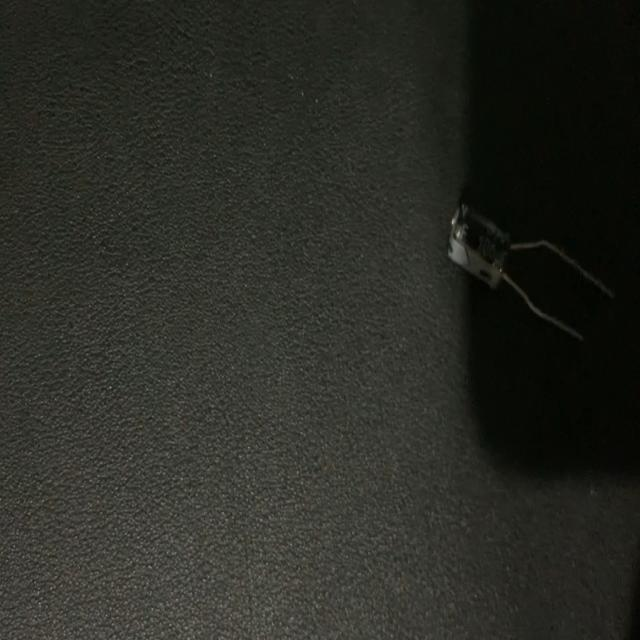capacitor: (444, 196, 614, 341)
